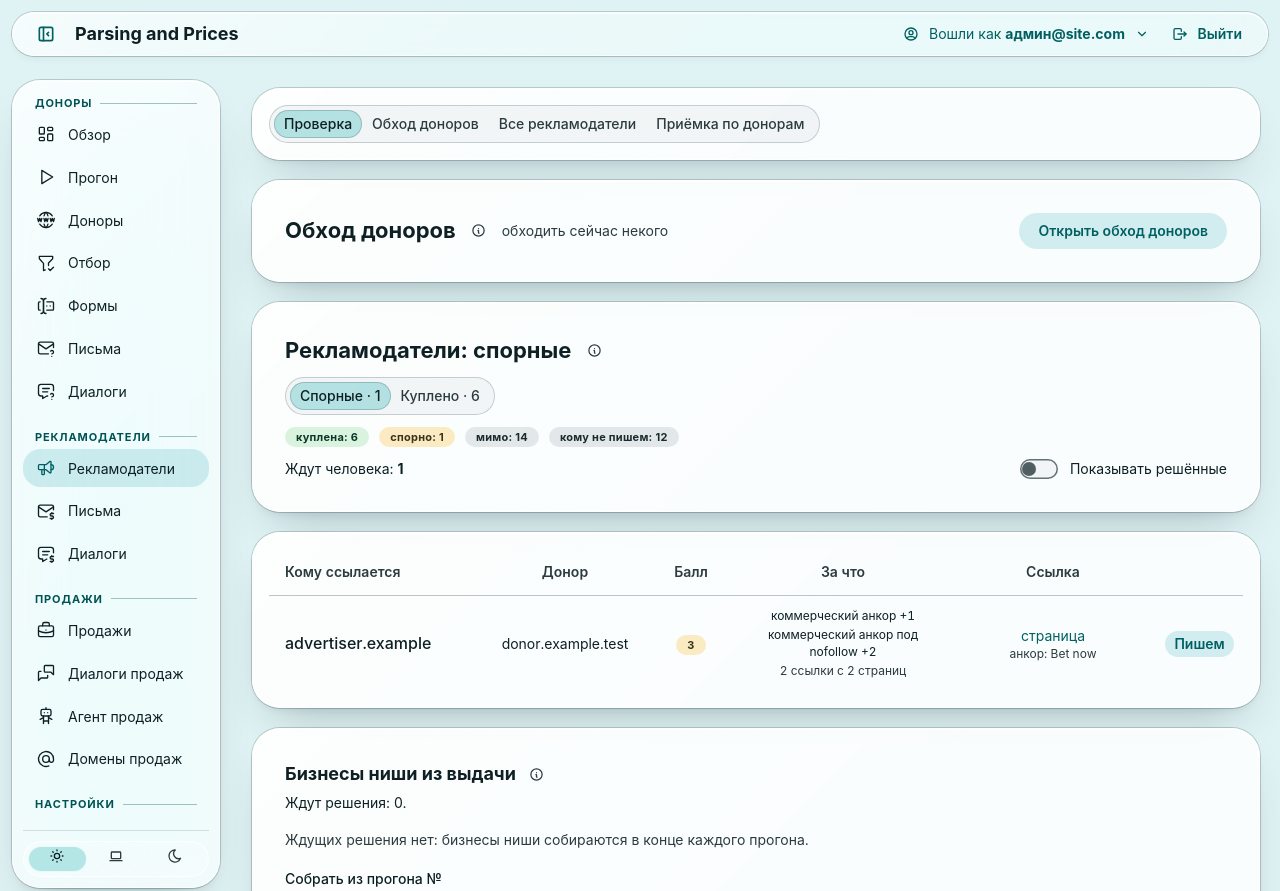
Test: ручная проверка рекламодателей › «пишем» уходит на сервер
The image size is (1280, 891).
Expected: the link "advertiser.example" is shown, [285, 633, 431, 653]
Click the button "Пишем" at (1200, 644), box [1165, 631, 1234, 657]
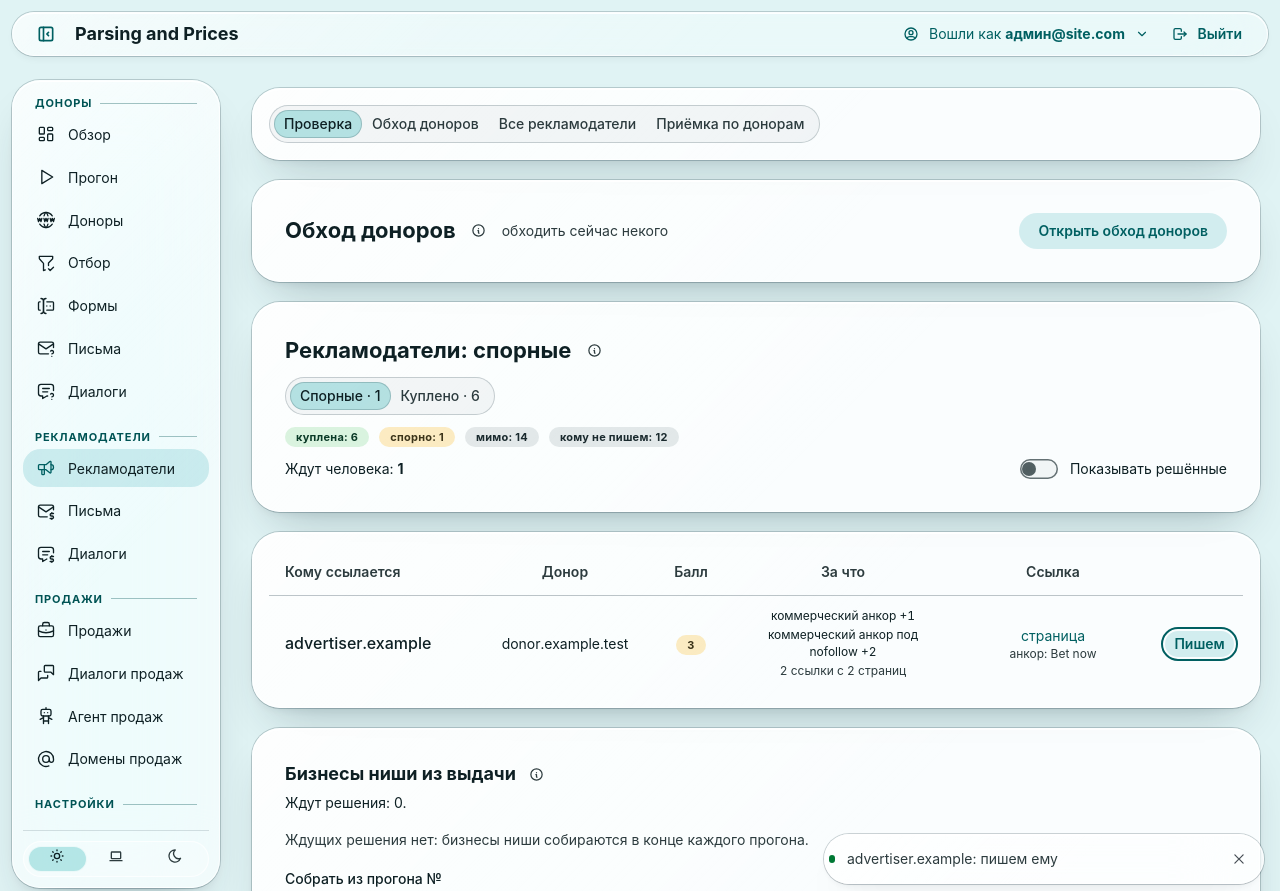
Expected: the text "advertiser.example: пишем ему" is shown, [847, 850, 1058, 867]
